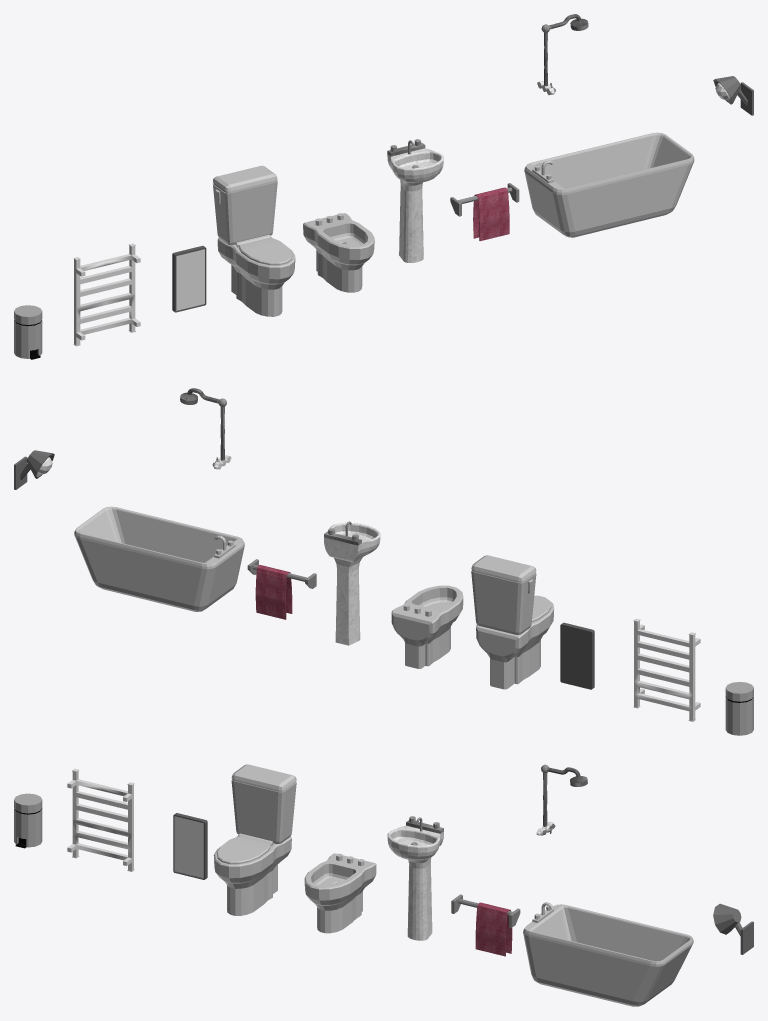
The model's file is Artefactos Baño.fbx.
3 renders of one model, top to bottom at view 1: azimuth 30°, elevation 25°; view 2: azimuth 150°, elevation 25°; view 3: azimuth 330°, elevation 25°, orthographic.
Visible parts, largest first — view 1: Bañera Baño, Inodoro, Bidet Baño, Lavamanos, Radiador Toallas Baño, Sosten toalla, Espejo baño, Tacho baño, Luz Baño, Ducha Baño; view 2: Bañera Baño, Inodoro, Bidet Baño, Lavamanos, Radiador Toallas Baño, Espejo baño, Sosten toalla, Tacho baño, Luz Baño, Ducha Baño; view 3: Bañera Baño, Inodoro, Bidet Baño, Lavamanos, Radiador Toallas Baño, Espejo baño, Sosten toalla, Tacho baño, Luz Baño, Ducha Baño.
Boxes of the visible parts, x1,y1,x2,y2 form: Bañera Baño: [524, 132, 694, 237]; Inodoro: [212, 165, 295, 316]; Bidet Baño: [303, 213, 374, 292]; Lavamanos: [387, 139, 443, 262]; Radiador Toallas Baño: [73, 243, 140, 346]; Sosten toalla: [450, 183, 519, 241]; Espejo baño: [172, 245, 206, 312]; Tacho baño: [14, 305, 42, 359]; Luz Baño: [713, 76, 753, 115]; Ducha Baño: [537, 14, 588, 95]; Bañera Baño: [74, 506, 244, 611]; Inodoro: [471, 555, 554, 689]; Bidet Baño: [391, 585, 463, 668]; Lavamanos: [324, 521, 380, 645]; Radiador Toallas Baño: [633, 618, 700, 721]; Espejo baño: [560, 622, 594, 689]; Sosten toalla: [247, 559, 316, 619]; Tacho baño: [725, 682, 753, 735]; Luz Baño: [14, 450, 54, 489]; Ducha Baño: [180, 388, 231, 469]; Bañera Baño: [523, 902, 693, 1006]; Inodoro: [213, 764, 296, 915]; Bidet Baño: [304, 853, 376, 933]; Lavamanos: [387, 816, 443, 940]; Radiador Toallas Baño: [67, 768, 134, 871]; Espejo baño: [173, 813, 207, 879]; Sosten toalla: [451, 894, 520, 956]; Tacho baño: [14, 793, 42, 848]; Luz Baño: [713, 903, 753, 954]; Ducha Baño: [536, 764, 587, 835].
Bounding box in the file's own units: 14.48 × 3.96 × 1.64.
